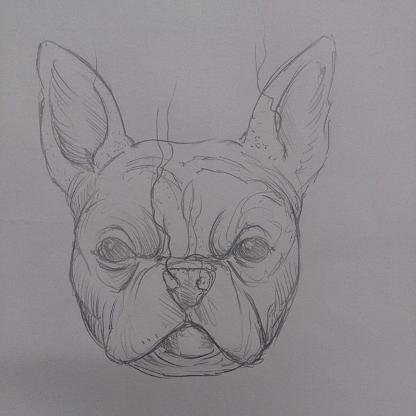Dog: (20, 31, 342, 376)
